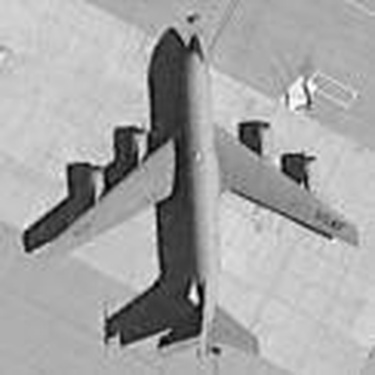airplane: (20, 2, 364, 368)
